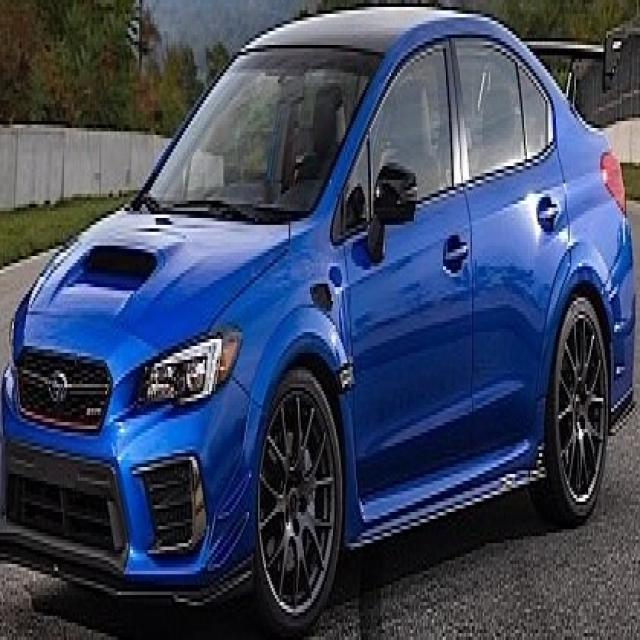blue: (7, 16, 640, 640)
